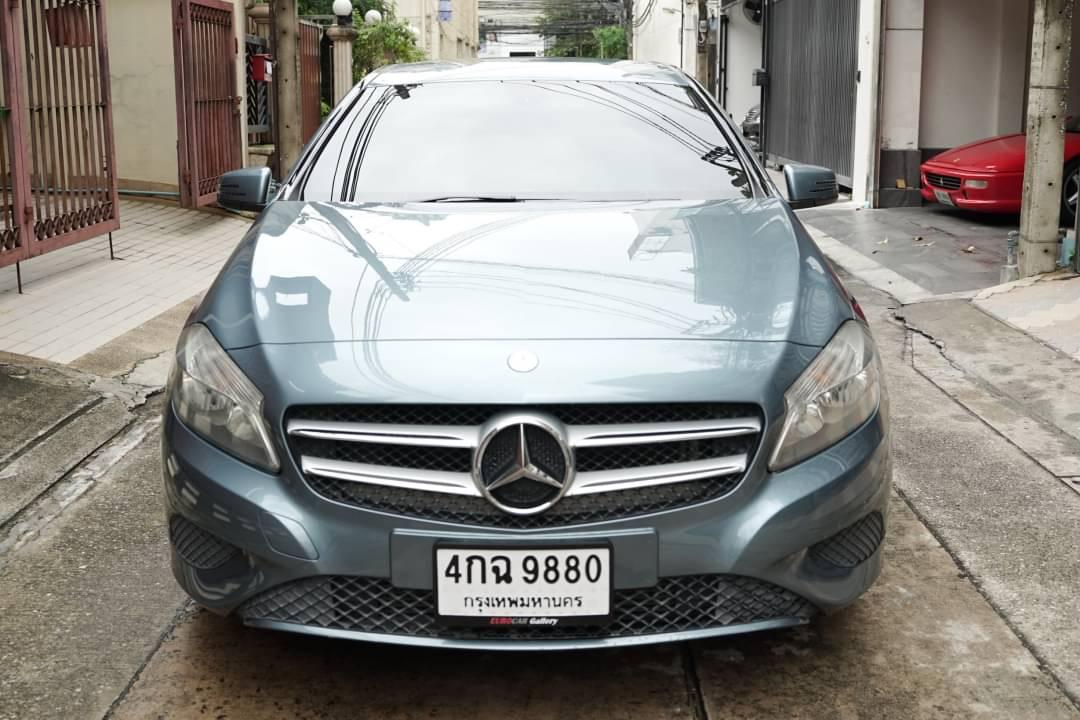license-plate: (430, 542, 617, 631)
